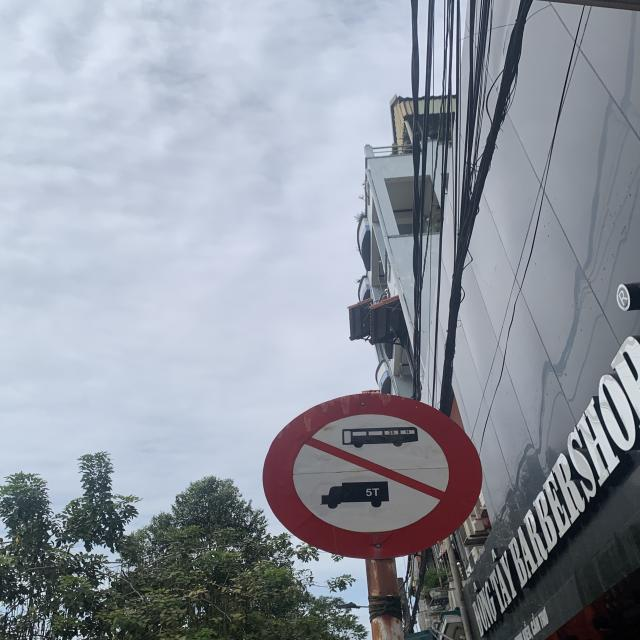Cam_XeTai_XeKhach: (263, 392, 482, 556)
